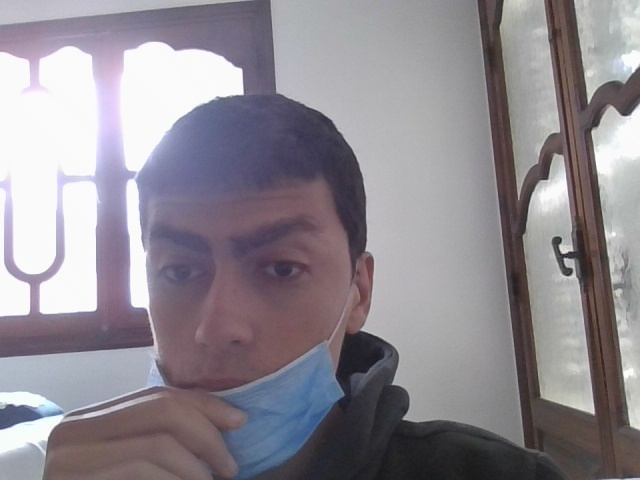mask_weared_incorrect: (140, 111, 364, 480)
